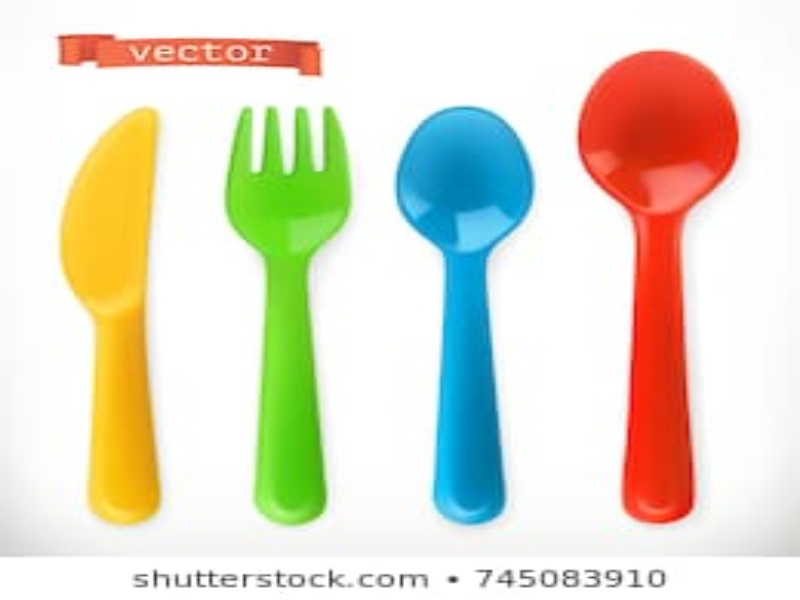plastic-silverware: (574, 48, 743, 526), (393, 103, 538, 526), (223, 101, 353, 526), (61, 102, 166, 526)
